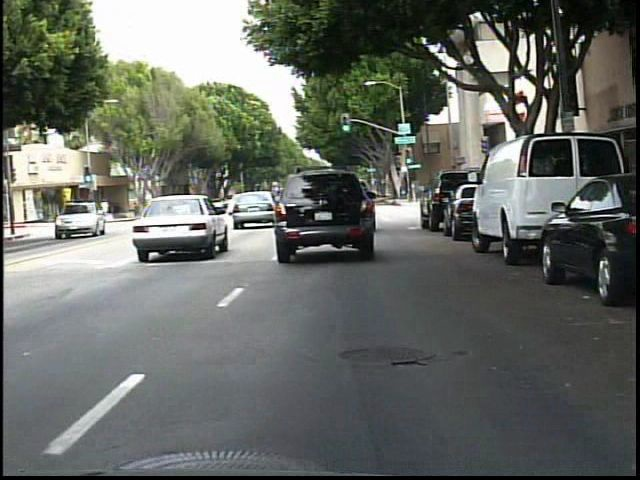person: (96, 194, 116, 225)
